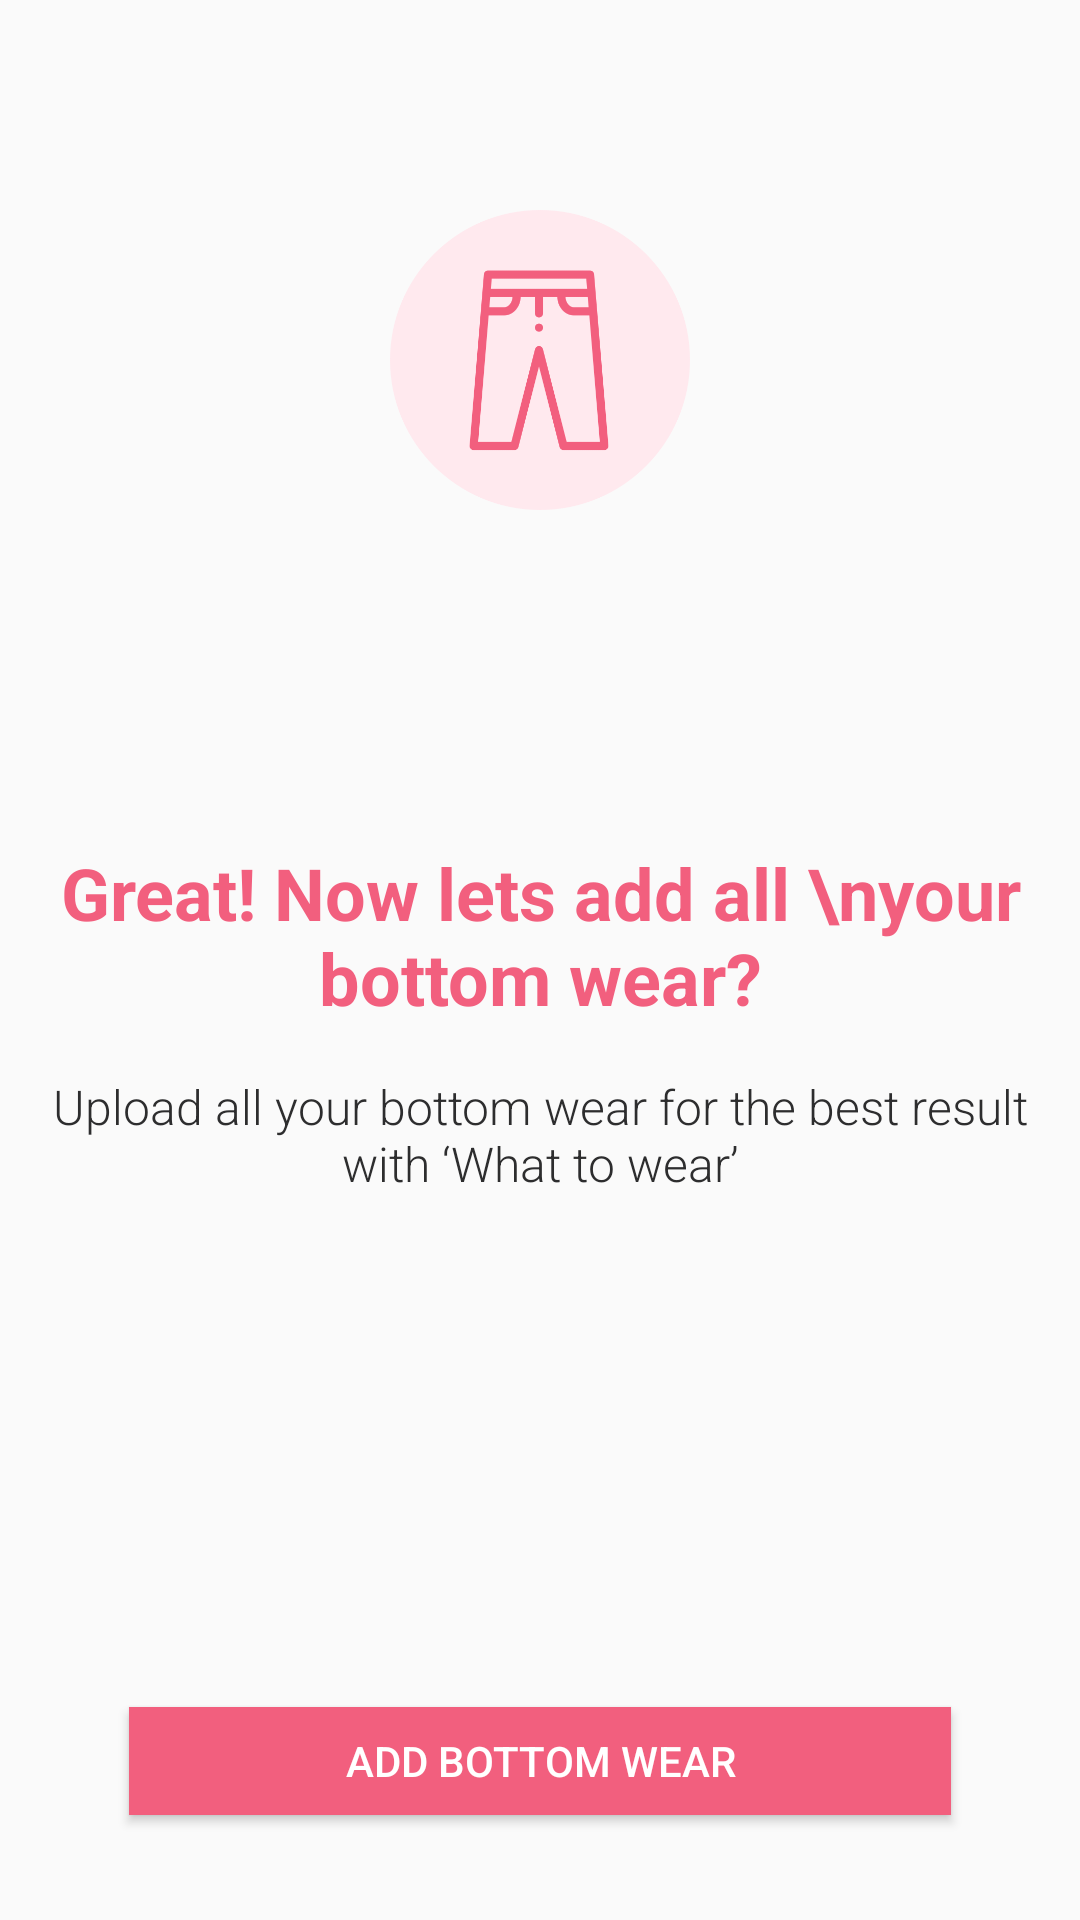

Icons on this 1080w x 1920h Android screen, each with the point to tap as point (x, y):
pick pant: point (540, 360)
